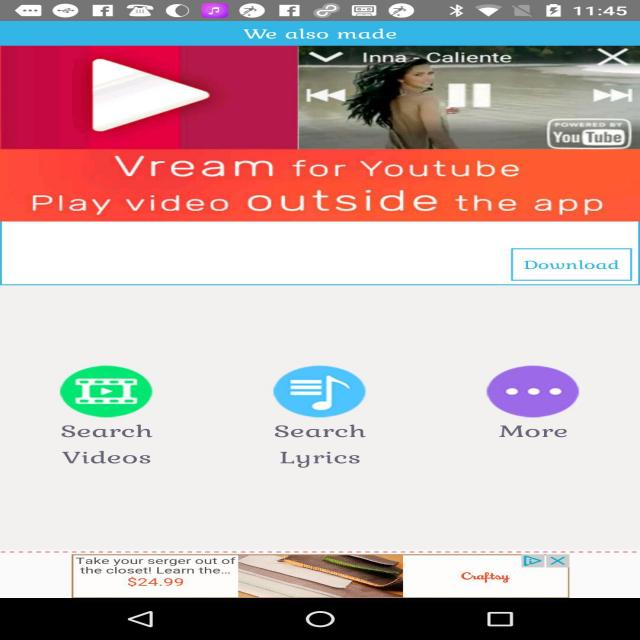button: (258, 360, 396, 472), (54, 367, 184, 468), (479, 362, 598, 451), (509, 249, 628, 280)
image: (5, 150, 640, 280), (7, 45, 640, 147), (3, 549, 640, 601), (1, 23, 640, 49), (46, 361, 187, 422), (263, 363, 384, 422), (483, 363, 590, 422)
text: (7, 152, 631, 219), (263, 420, 398, 476), (48, 425, 185, 471), (230, 25, 424, 45), (517, 253, 625, 279), (497, 421, 584, 446)
